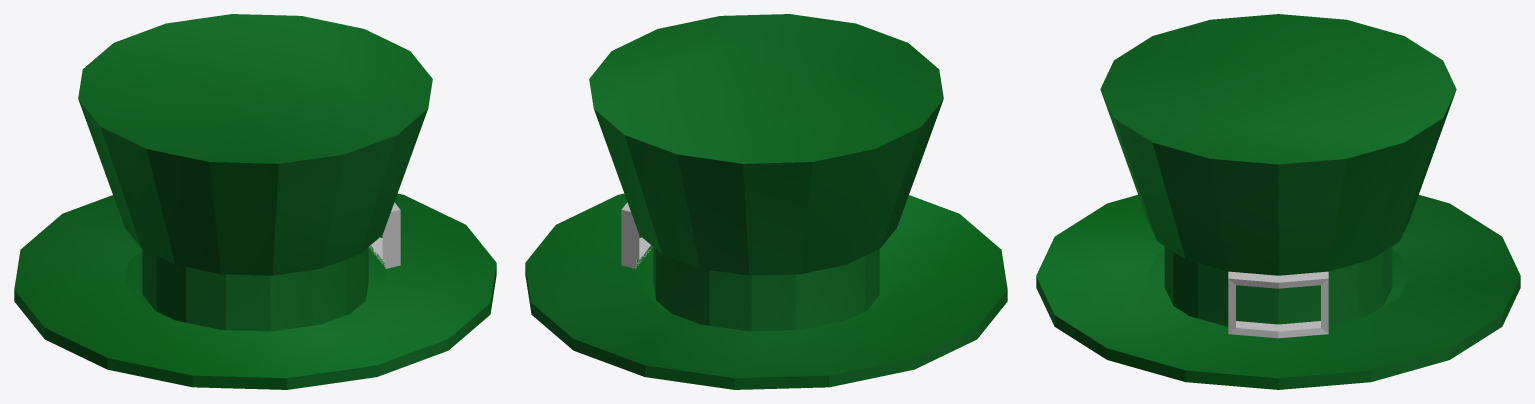
The model's file is LEPRECHAUN HAT.fbx.
3 renders of one model, left to right at view 1: azimuth 30°, elevation 25°; view 2: azimuth 150°, elevation 25°; view 3: azimuth 270°, elevation 25°, orthographic.
Visible parts, largest first — view 1: LEPRECHAUN_HAT; view 2: LEPRECHAUN_HAT; view 3: LEPRECHAUN_HAT.
Boxes of the visible parts, left/top/right/bottom form: LEPRECHAUN_HAT: left=14, top=14, right=496, bottom=389; LEPRECHAUN_HAT: left=525, top=14, right=1007, bottom=389; LEPRECHAUN_HAT: left=1036, top=14, right=1520, bottom=389.
Size of the model in its own units: 45.64 by 20.61 by 45.64.
